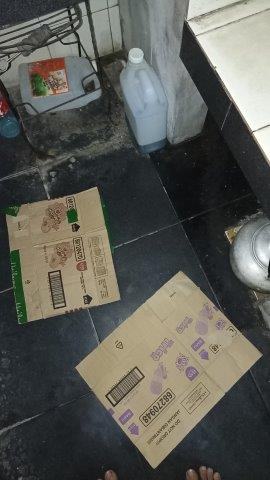kardus: (78, 272, 262, 469), (6, 188, 118, 323)
